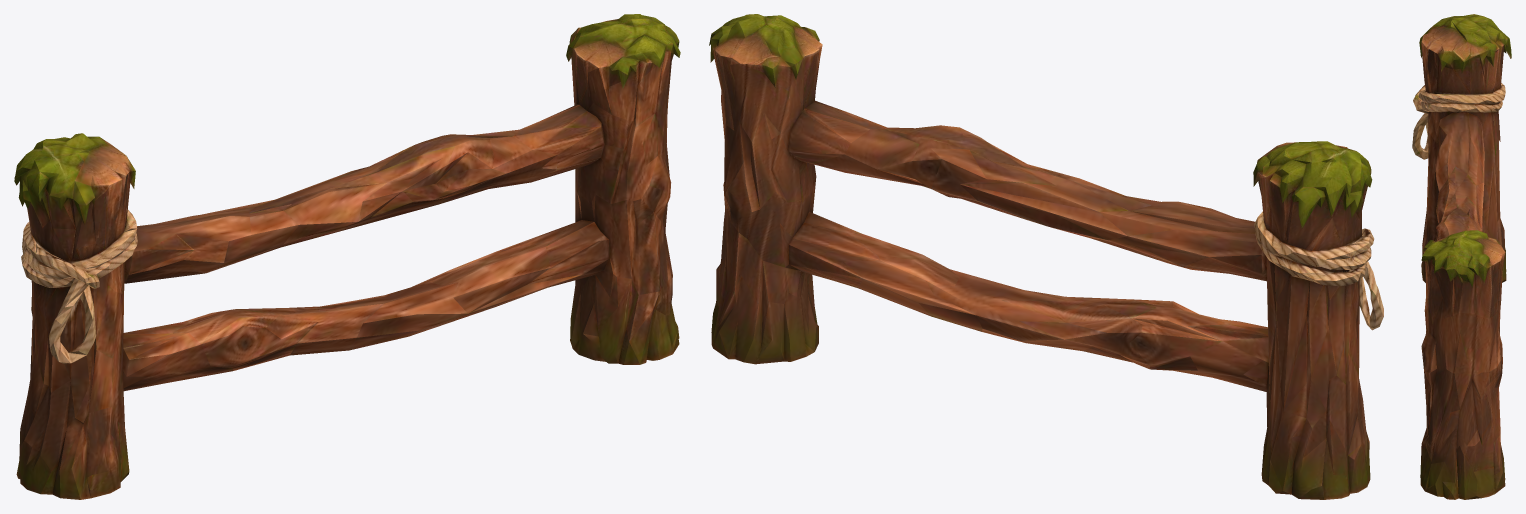
The model's file is ARC-003.glb.
3 views of the same model, side by side, from view 1: azimuth 30°, elevation 25°; view 2: azimuth 150°, elevation 25°; view 3: azimuth 270°, elevation 25° (orthographic). The views are drawn at different scales.
Parts seen in each view (by area): view 1: ARC-003; view 2: ARC-003; view 3: ARC-003.
Boxes of the visible parts, x1=… form: ARC-003: x1=14, y1=14, x2=680, y2=499; ARC-003: x1=709, y1=14, x2=1383, y2=499; ARC-003: x1=1412, y1=14, x2=1511, y2=499.
Bounding box in the file's own units: 2.61 × 1.28 × 0.4522.
Materials: 1 (1 with a texture image).
